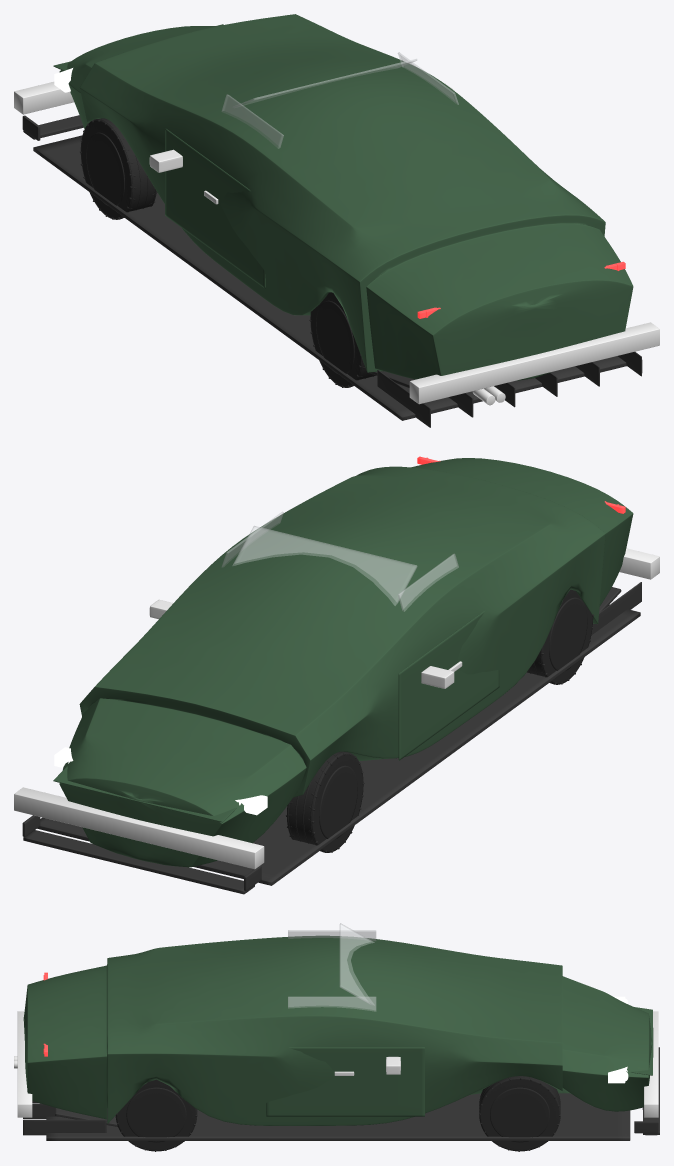
File: vehicle.opt.glb
3 renders of one model, top to bottom at view 1: azimuth 30°, elevation 25°; view 2: azimuth 150°, elevation 25°; view 3: azimuth 270°, elevation 25°, orthographic. The views are drawn at different scales.
Visible parts, largest first — view 1: BODY_MainShell, UNDERBODY_FlatFloor, JEWELRY_450SEL_DoubleBumpers, BODY_Door_FL, WHEEL_FL_Tire, WHEEL_RL_Tire, GLASS_Greenhouse, AERO_FrontSplitter, JEWELRY_Hardware; view 2: BODY_MainShell, UNDERBODY_FlatFloor, JEWELRY_450SEL_DoubleBumpers, BODY_Door_FL, GLASS_Greenhouse, WHEEL_FL_Tire, AERO_FrontSplitter, WHEEL_RL_Tire, JEWELRY_Hardware, BODY_Hood, LIGHTING_Headlamps; view 3: BODY_MainShell, UNDERBODY_FlatFloor, BODY_Door_FR, WHEEL_FR_Tire, WHEEL_RR_Tire, GLASS_Greenhouse, JEWELRY_450SEL_DoubleBumpers, AERO_FrontSplitter, JEWELRY_Hardware, LIGHTING_Headlamps.
Boxes of the visible parts, left/top/right/bottom form: BODY_MainShell: left=59, top=14, right=633, bottom=380; UNDERBODY_FlatFloor: left=33, top=135, right=642, bottom=427; JEWELRY_450SEL_DoubleBumpers: left=14, top=81, right=659, bottom=404; BODY_Door_FL: left=165, top=128, right=265, bottom=288; WHEEL_FL_Tire: left=80, top=118, right=157, bottom=219; WHEEL_RL_Tire: left=309, top=292, right=375, bottom=387; GLASS_Greenhouse: left=222, top=52, right=458, bottom=148; AERO_FrontSplitter: left=22, top=115, right=83, bottom=140; JEWELRY_Hardware: left=149, top=83, right=454, bottom=204; BODY_MainShell: left=59, top=458, right=633, bottom=867; UNDERBODY_FlatFloor: left=37, top=582, right=641, bottom=885; JEWELRY_450SEL_DoubleBumpers: left=14, top=548, right=659, bottom=869; BODY_Door_FL: left=398, top=611, right=499, bottom=760; GLASS_Greenhouse: left=222, top=511, right=458, bottom=611; WHEEL_FL_Tire: left=286, top=751, right=364, bottom=852; AERO_FrontSplitter: left=22, top=815, right=261, bottom=894; WHEEL_RL_Tire: left=527, top=589, right=593, bottom=684; JEWELRY_Hardware: left=149, top=599, right=462, bottom=688; BODY_Hood: left=53, top=766, right=236, bottom=822; LIGHTING_Headlamps: left=54, top=747, right=267, bottom=815; BODY_MainShell: left=23, top=935, right=652, bottom=1125; UNDERBODY_FlatFloor: left=23, top=1093, right=630, bottom=1140; BODY_Door_FR: left=266, top=1047, right=424, bottom=1116; WHEEL_FR_Tire: left=479, top=1076, right=560, bottom=1151; WHEEL_RR_Tire: left=115, top=1079, right=197, bottom=1151; GLASS_Greenhouse: left=288, top=923, right=376, bottom=1011; JEWELRY_450SEL_DoubleBumpers: left=17, top=1011, right=658, bottom=1117; AERO_FrontSplitter: left=634, top=1047, right=659, bottom=1135; JEWELRY_Hardware: left=334, top=1056, right=400, bottom=1075; LIGHTING_Headlamps: left=608, top=996, right=628, bottom=1083.
Size of what is drawn, in the model's own units: 2.2 by 1.37 by 5.26.
